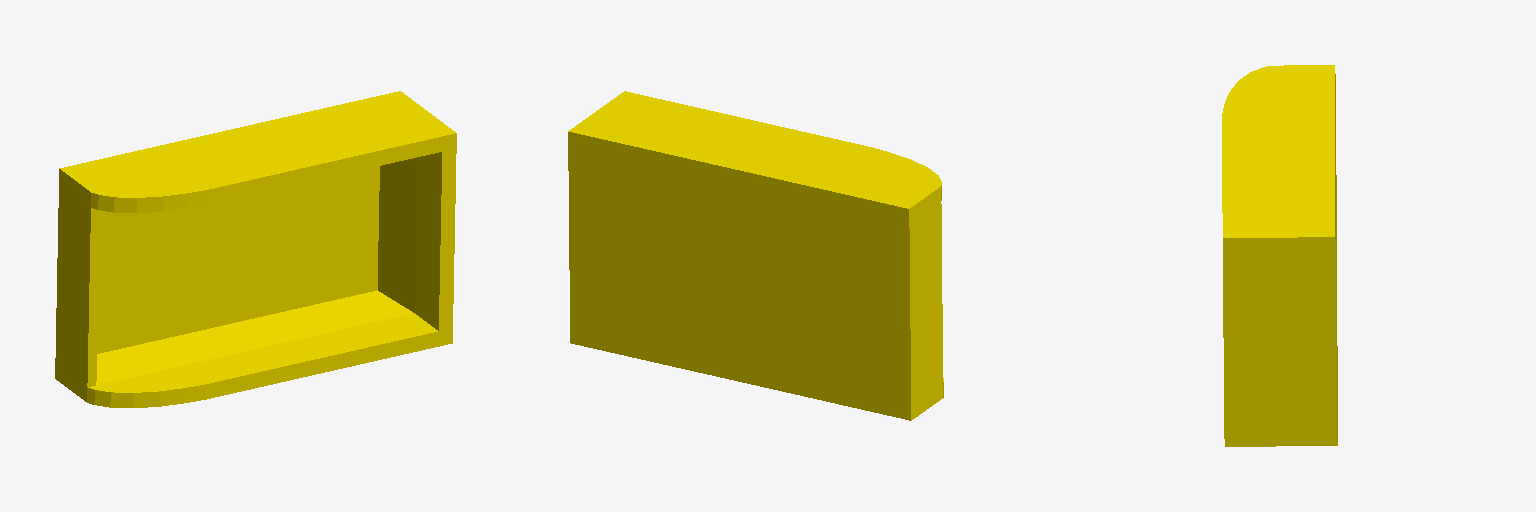
3 views of the same model, side by side, from view 1: azimuth 30°, elevation 25°; view 2: azimuth 150°, elevation 25°; view 3: azimuth 270°, elevation 25° (orthographic).
Parts seen in each view (by area): view 1: Cube.015_Cube.011_Material.001; view 2: Cube.015_Cube.011_Material.001; view 3: Cube.015_Cube.011_Material.001.
Boxes of the visible parts, <box> form: Cube.015_Cube.011_Material.001: <box>55,91,456,407</box>; Cube.015_Cube.011_Material.001: <box>568,91,943,420</box>; Cube.015_Cube.011_Material.001: <box>1222,65,1337,446</box>.
Size of the model in its own units: 0.5003 by 0.3011 by 0.1448.
Materials: 1 (1 with a texture image).